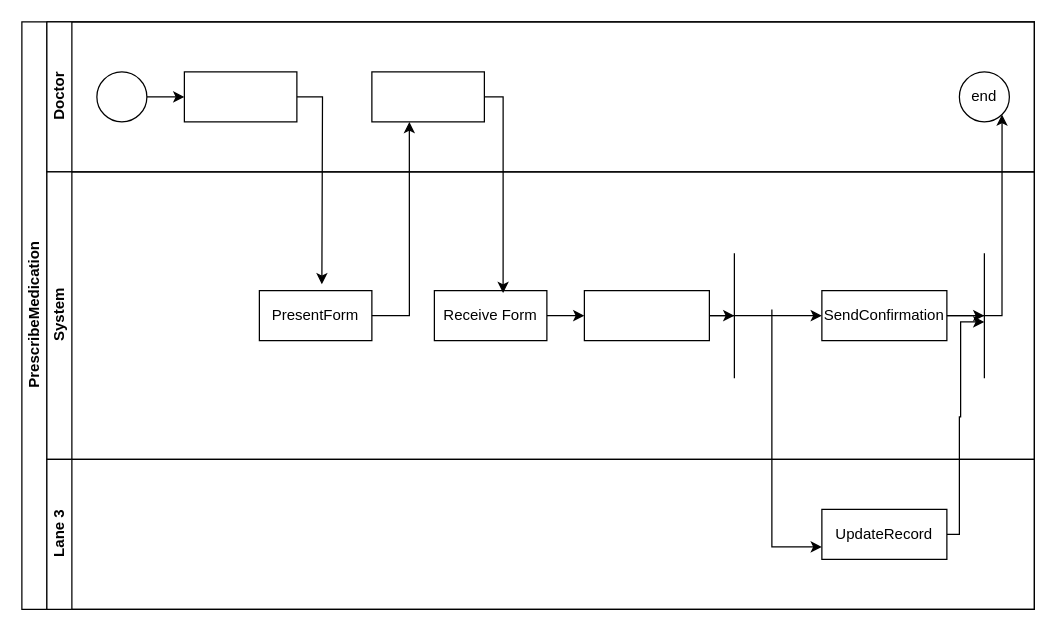
Image size: 1056x631. Some labels were removed from this diagram. The shapes that lost their labels are listed below. From the top down, each one's centre as x and y in pixels, then its label:
(121,96): start
(240,96): OpenMenu
(427,96): CompleteForm
(646,315): SubmitToDatabase
